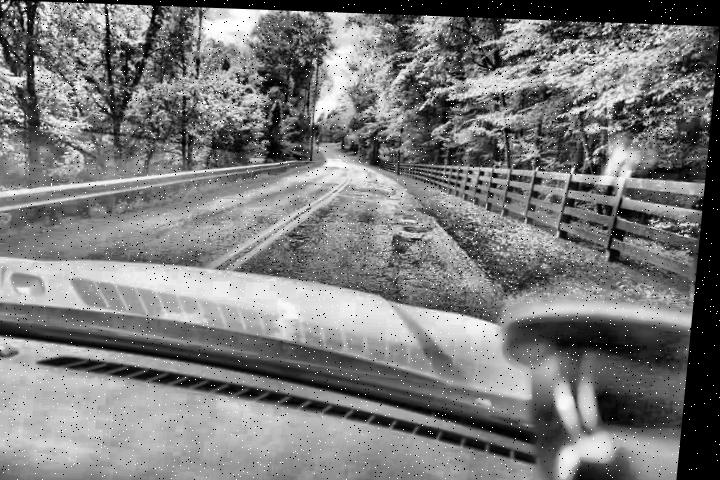pothole: (288, 225, 311, 240)
